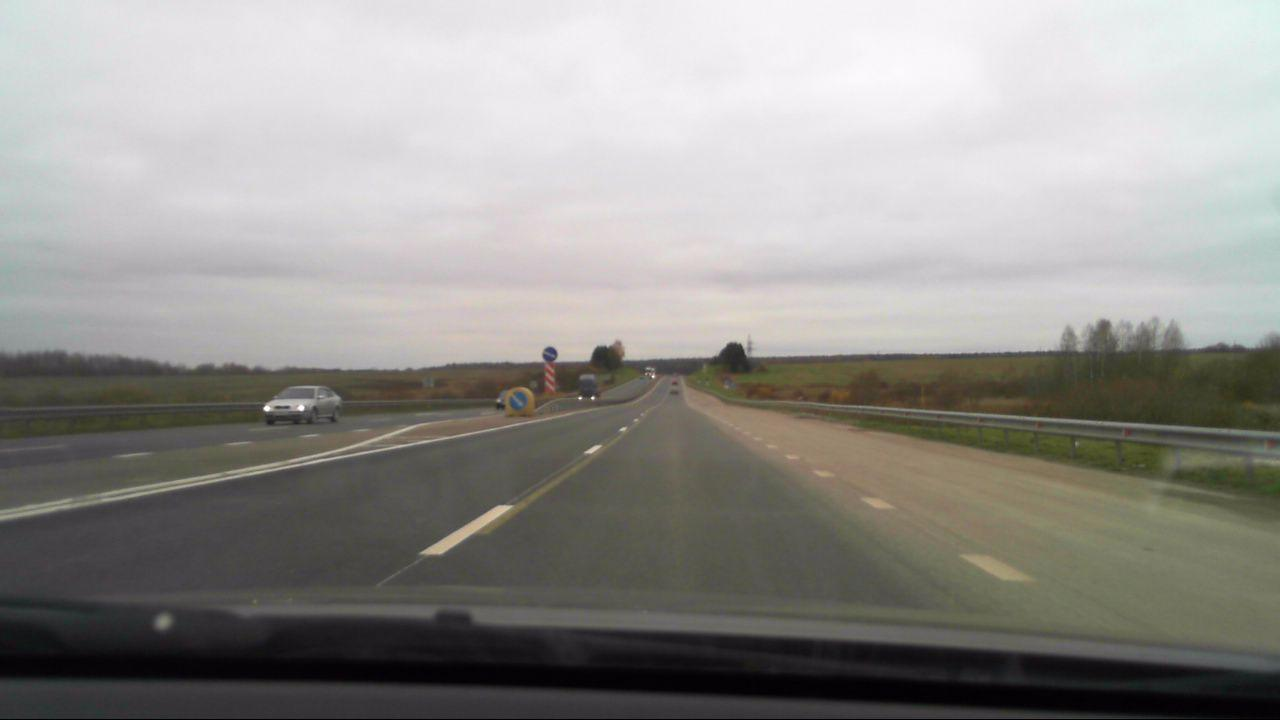4_2_1: (507, 387, 527, 411), (542, 346, 559, 363)
8_22_1: (544, 363, 556, 391)
